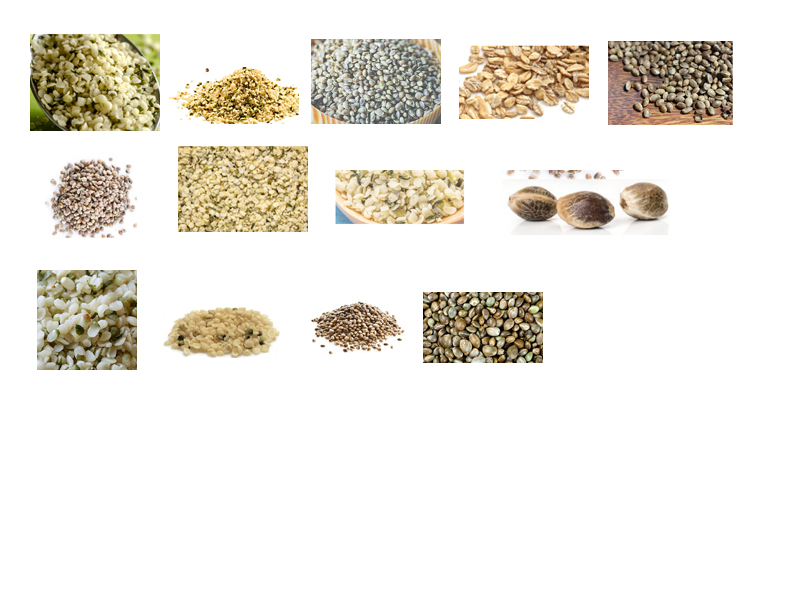hemp heart: (34, 34, 157, 127), (313, 42, 439, 120), (37, 273, 136, 367), (462, 46, 587, 117), (614, 44, 733, 114), (425, 292, 542, 362), (176, 62, 299, 122), (47, 156, 137, 236), (160, 301, 278, 356), (345, 175, 462, 223), (307, 299, 407, 354), (557, 189, 615, 229), (507, 183, 561, 224), (615, 180, 668, 221)
